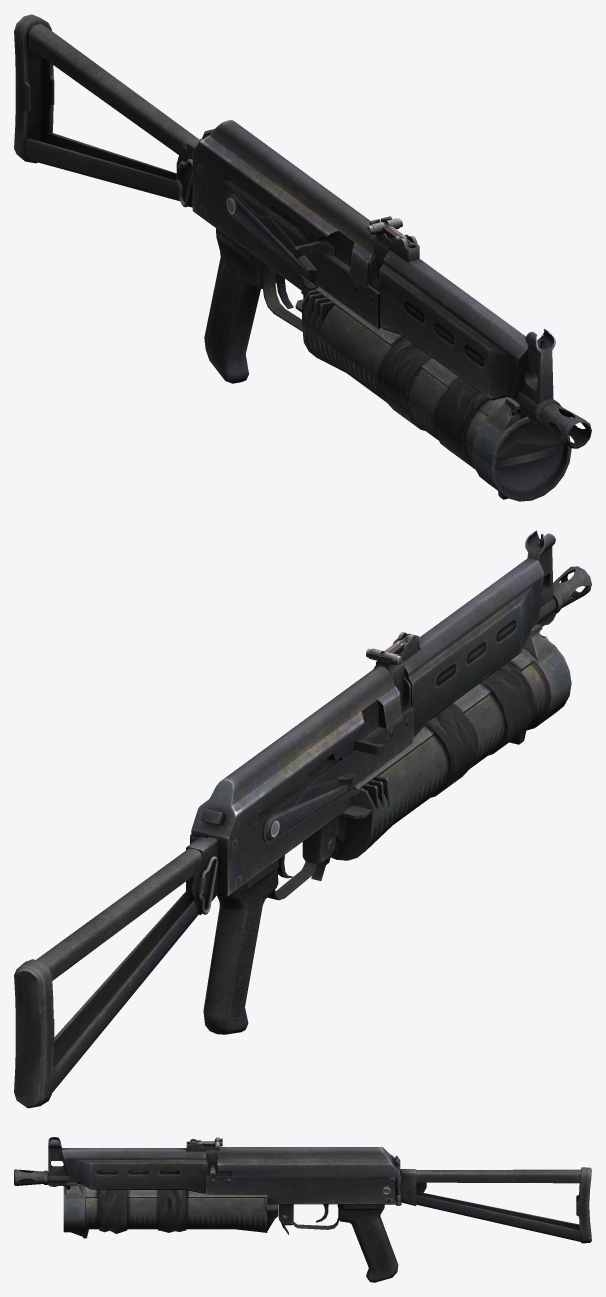
3 renders of one model, top to bottom at view 1: azimuth 30°, elevation 25°; view 2: azimuth 150°, elevation 25°; view 3: azimuth 270°, elevation 25°, orthographic. The views are drawn at different scales.
Parts seen in each view (by area): view 1: Mesh_0008, MAG; view 2: Mesh_0008, MAG; view 3: Mesh_0008, MAG.
Boxes of the visible parts, bbox=[...] form: Mesh_0008: bbox=[14, 14, 591, 448]; MAG: bbox=[295, 286, 571, 501]; Mesh_0008: bbox=[14, 530, 591, 1108]; MAG: bbox=[330, 624, 571, 860]; Mesh_0008: bbox=[14, 1137, 591, 1282]; MAG: bbox=[63, 1182, 278, 1238].
Bounding box in the file's own units: 5.81 × 18.04 × 66.05.
Materials: 2 (2 with a texture image).
